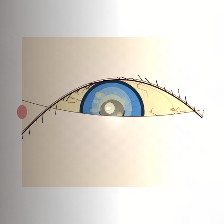corneal_ulcer: (90, 90, 134, 126)
